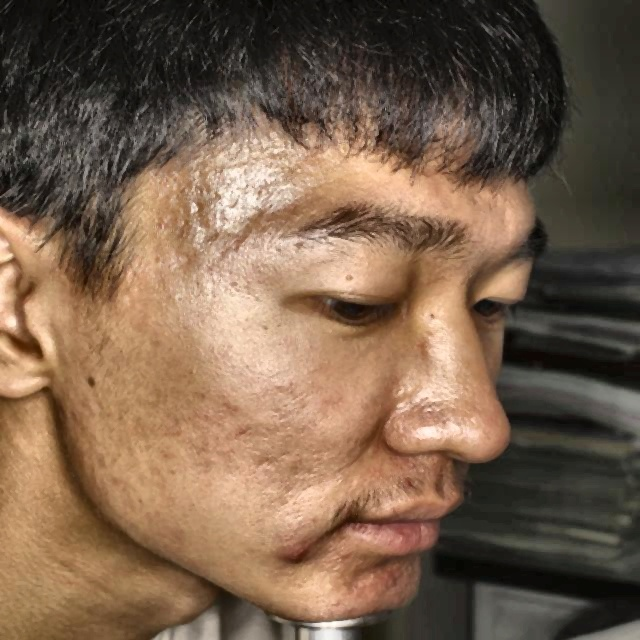comedone: (269, 536, 317, 574)
